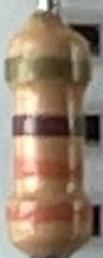Brown: (12, 114, 85, 139)
Orange: (3, 202, 92, 227), (15, 157, 84, 184)
Side-Gold: (6, 55, 94, 87)
